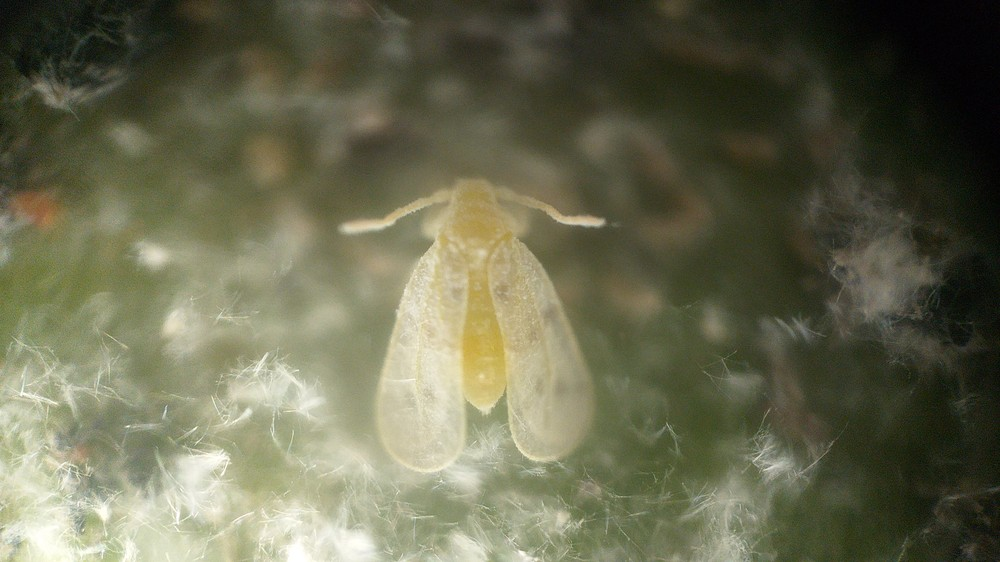Mosca Blanca: (322, 156, 637, 486)
